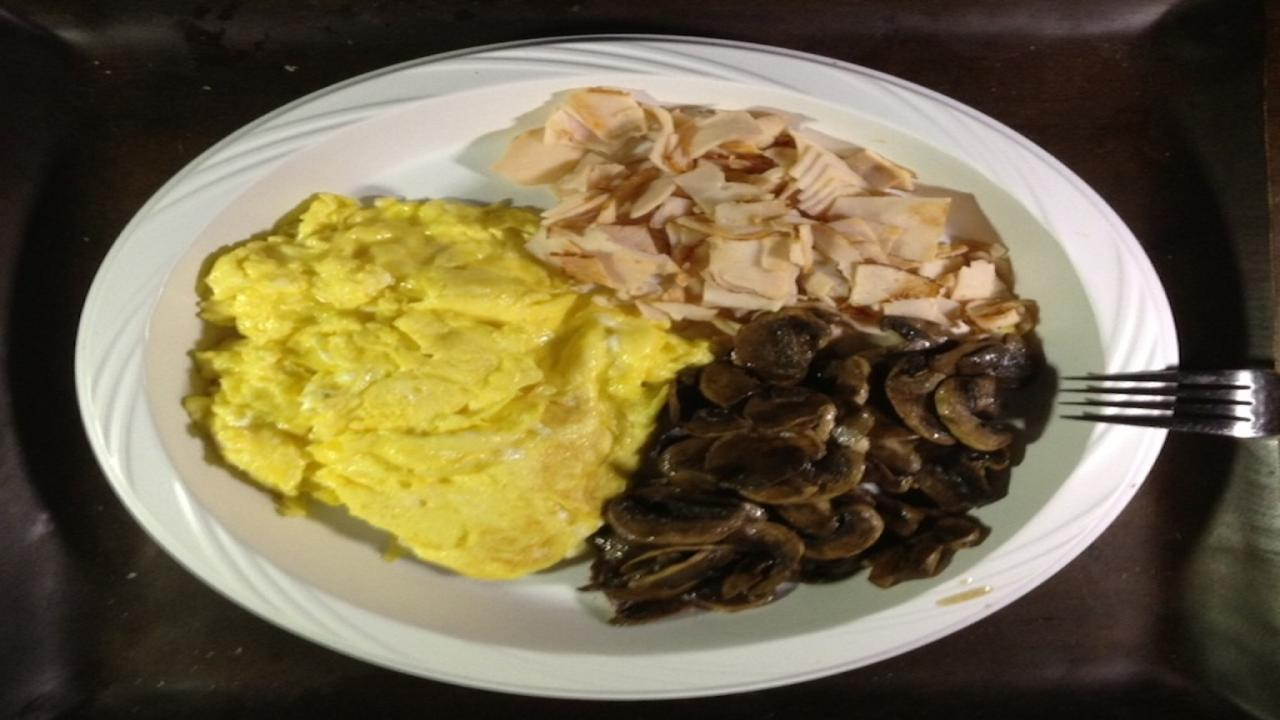fork: (1046, 366, 1280, 444)
